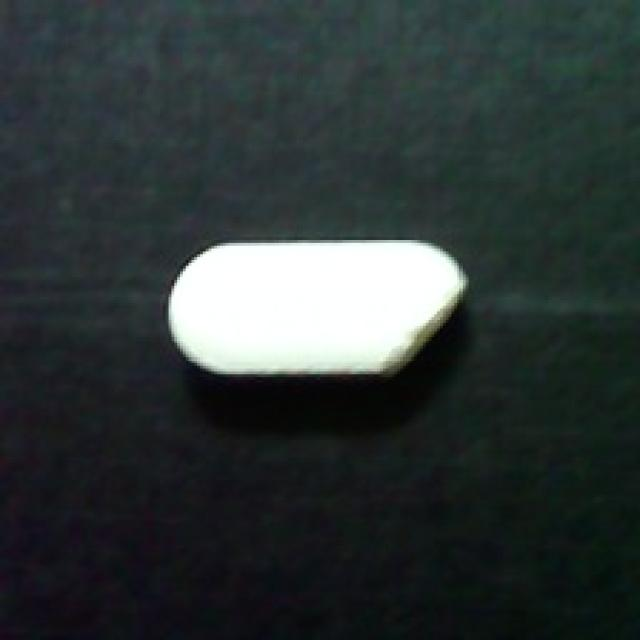defected: (166, 226, 474, 391)
